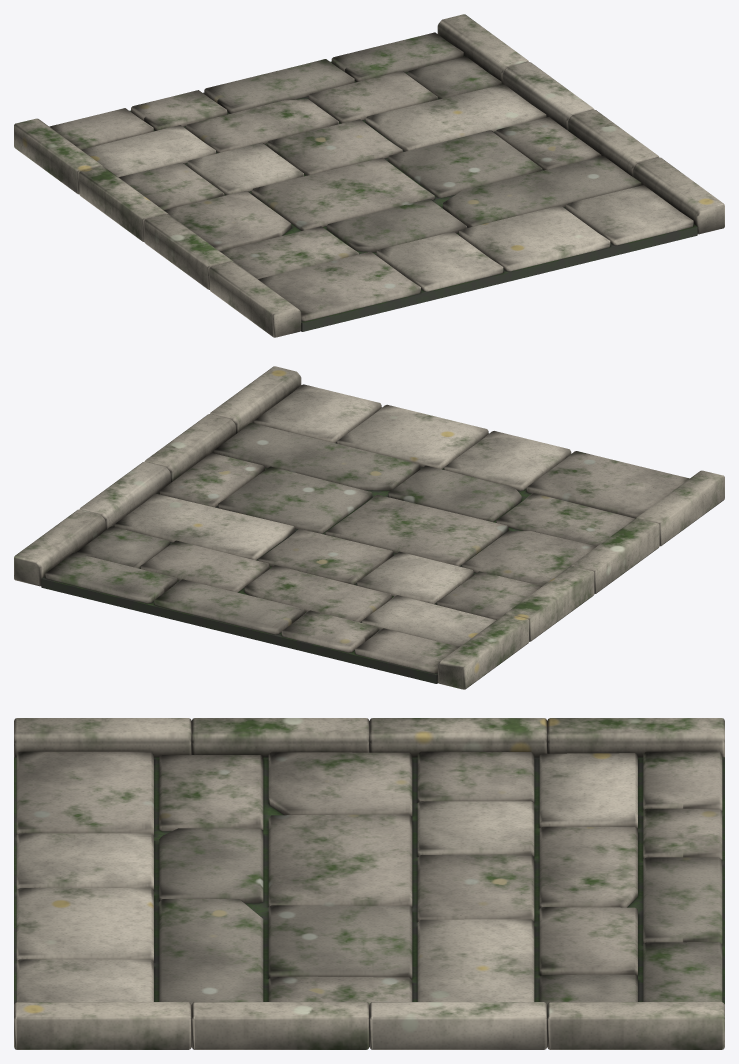
The model's file is FlagWalk8.fbx.
3 views of the same model, one above another, from view 1: azimuth 30°, elevation 25°; view 2: azimuth 150°, elevation 25°; view 3: azimuth 270°, elevation 25° (orthographic). The views are drawn at different scales.
Visible parts, largest first — view 1: FlagWalk8; view 2: FlagWalk8; view 3: FlagWalk8.
Boxes of the visible parts, x1,y1,x2,y2 form: FlagWalk8: (14, 14, 724, 337); FlagWalk8: (14, 366, 724, 689); FlagWalk8: (14, 718, 724, 1049).
Bounding box in the file's own units: 800 × 42 × 800.
